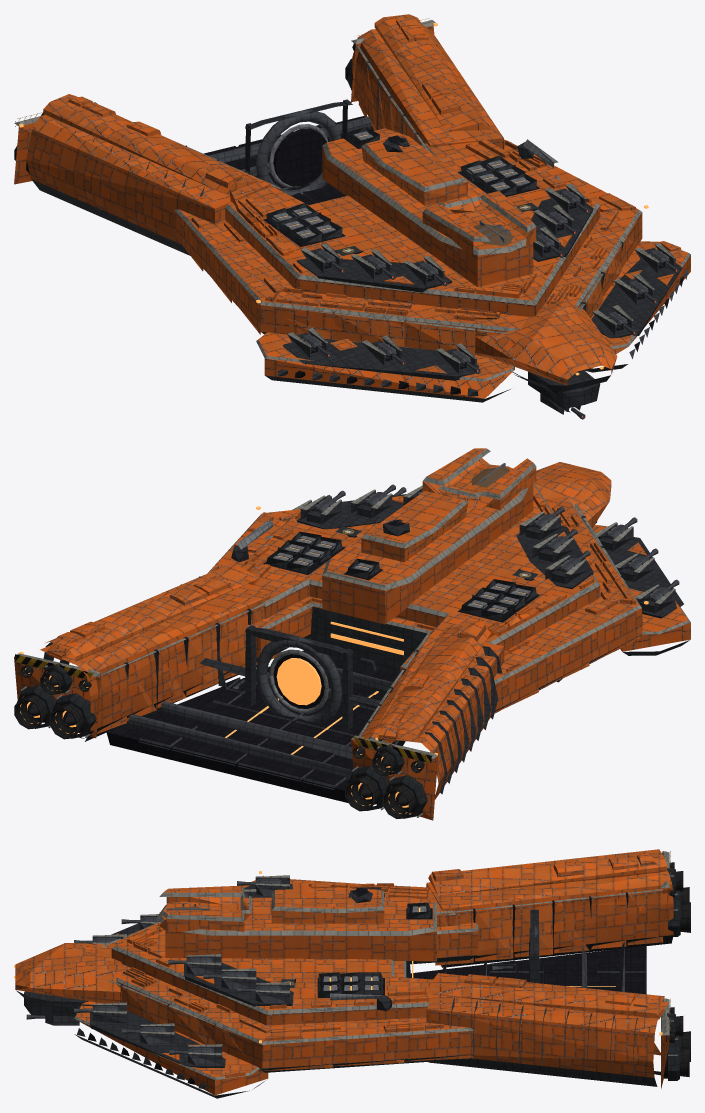
The model's file is saturn-schiff8.glb.
3 renders of one model, top to bottom at view 1: azimuth 30°, elevation 25°; view 2: azimuth 150°, elevation 25°; view 3: azimuth 270°, elevation 25°, orthographic. The views are drawn at different scales.
Visible parts, largest first — view 1: Hull_LOD0; view 2: Hull_LOD0; view 3: Hull_LOD0.
Boxes of the visible parts, x1,y1,x2,y2 form: Hull_LOD0: (14,14,690,414); Hull_LOD0: (14,448,690,820); Hull_LOD0: (14,849,690,1098).
Size of the model in its own units: 70.35 by 22.85 by 108.
6 materials, 4 textured.
